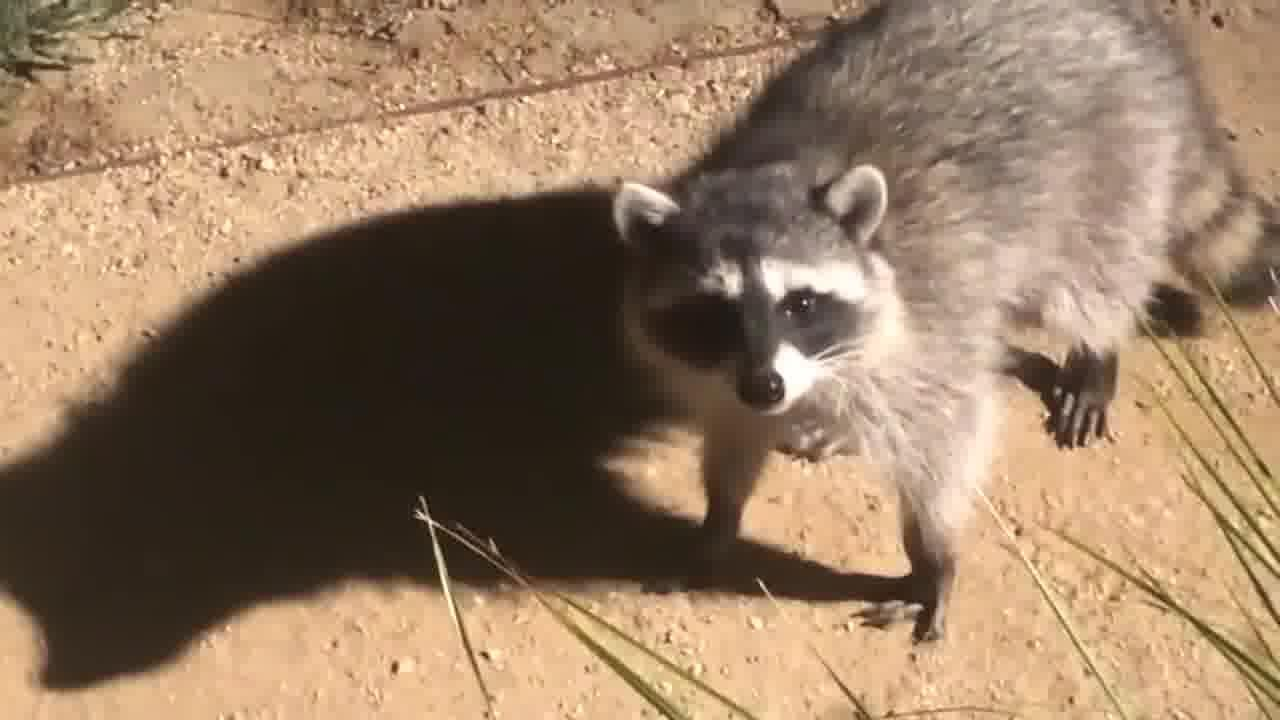raccoon: (591, 0, 1280, 662)
